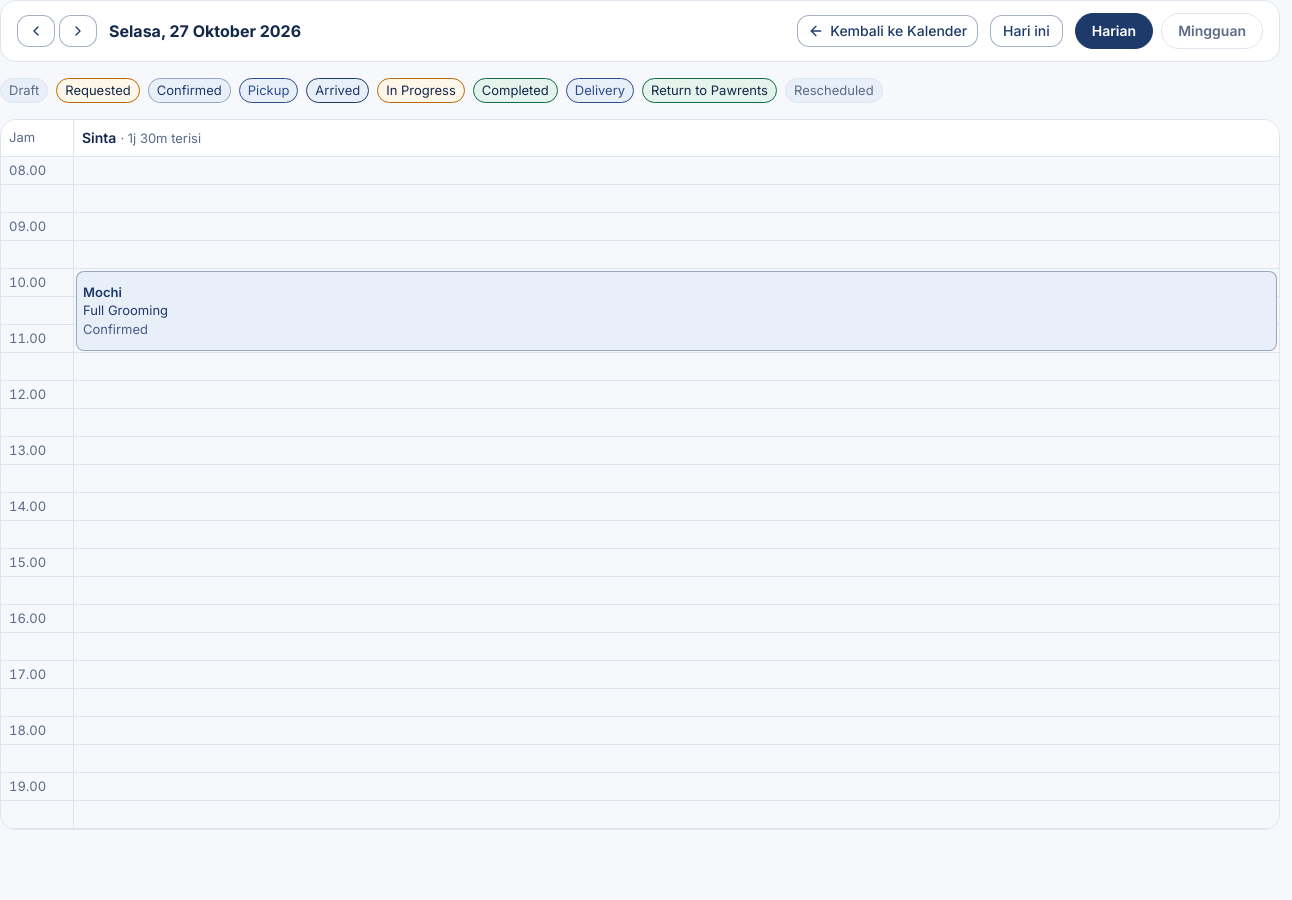
Test: BookingCalendarScreen › summarises the week rather than drawing every slot
Expected: the text "Mochi" is shown, [83,284,122,300]
Click the button "Mingguan" at (1212, 31), box [1161,13,1263,49]
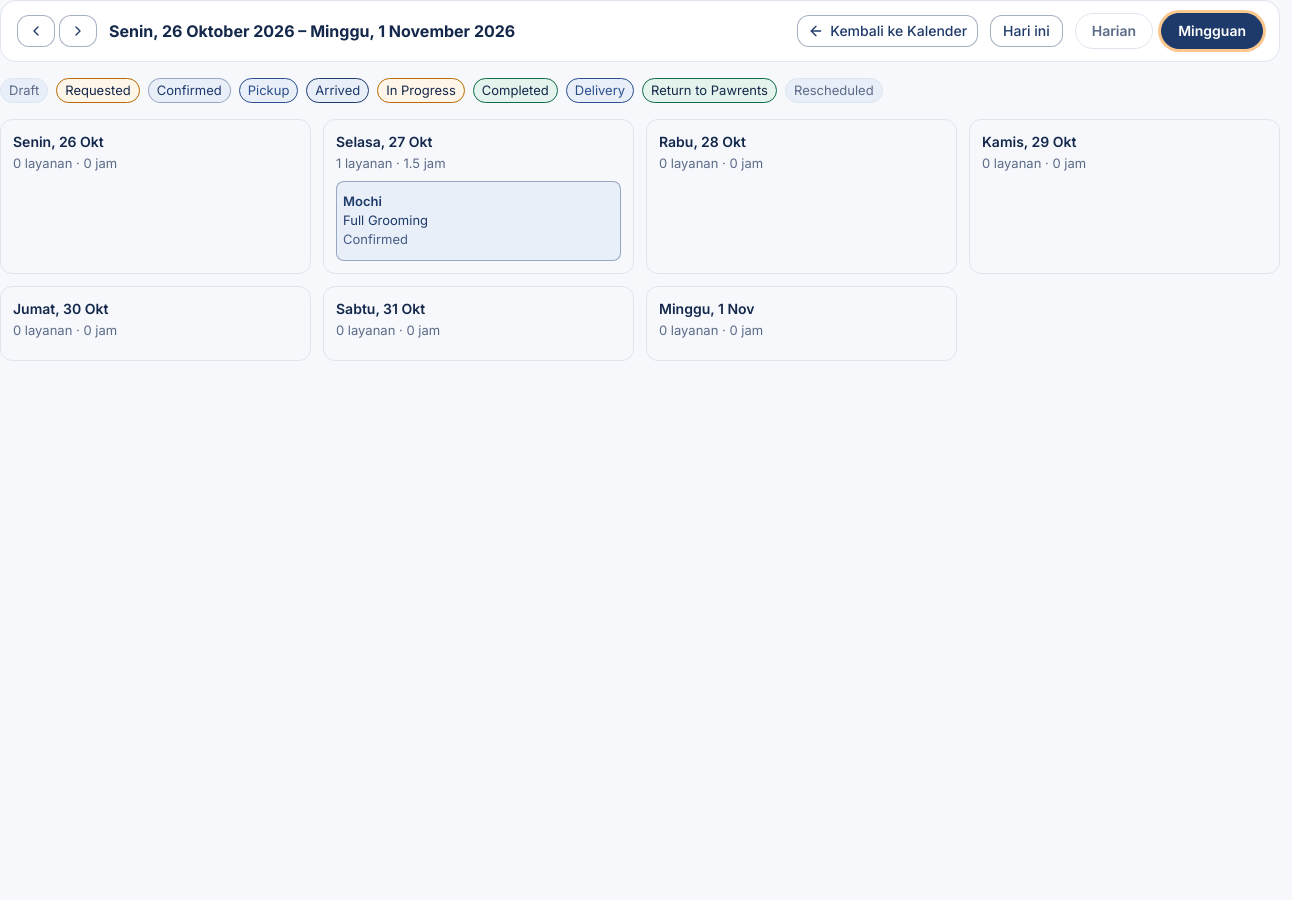
Result: the 1st text "0 layanan · 0 jam" is shown at [13,155,117,171]
